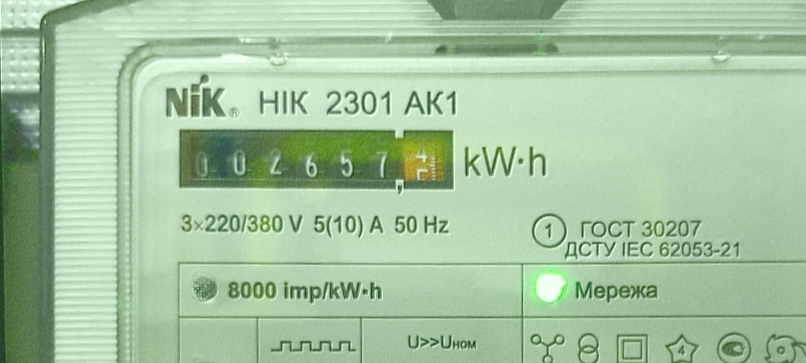0: (193, 150, 211, 178), (231, 147, 247, 177)
2: (267, 147, 284, 176)
4: (414, 138, 429, 163)
5: (339, 148, 355, 178), (415, 167, 430, 181)
6: (304, 149, 319, 179)
7: (375, 148, 390, 180)
screen: (169, 114, 466, 206)
